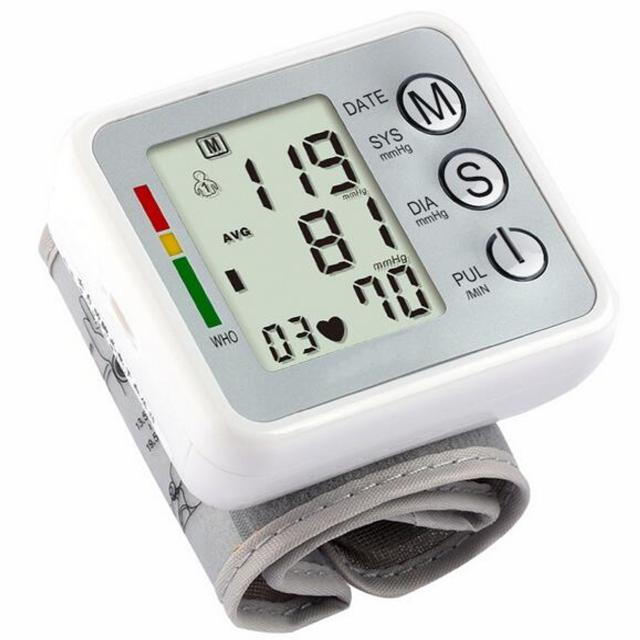dia: (282, 175, 409, 287)
pul: (345, 245, 446, 338)
ssd: (140, 59, 449, 406)
sys: (232, 116, 371, 222)
